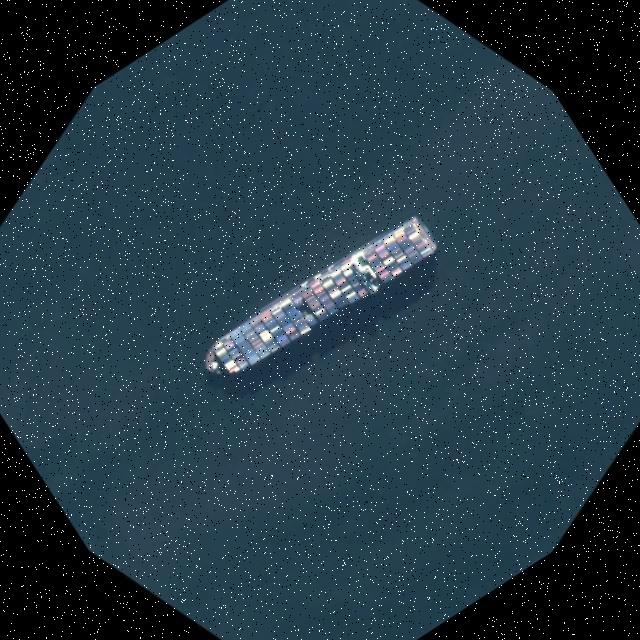ship: (198, 219, 438, 379)
